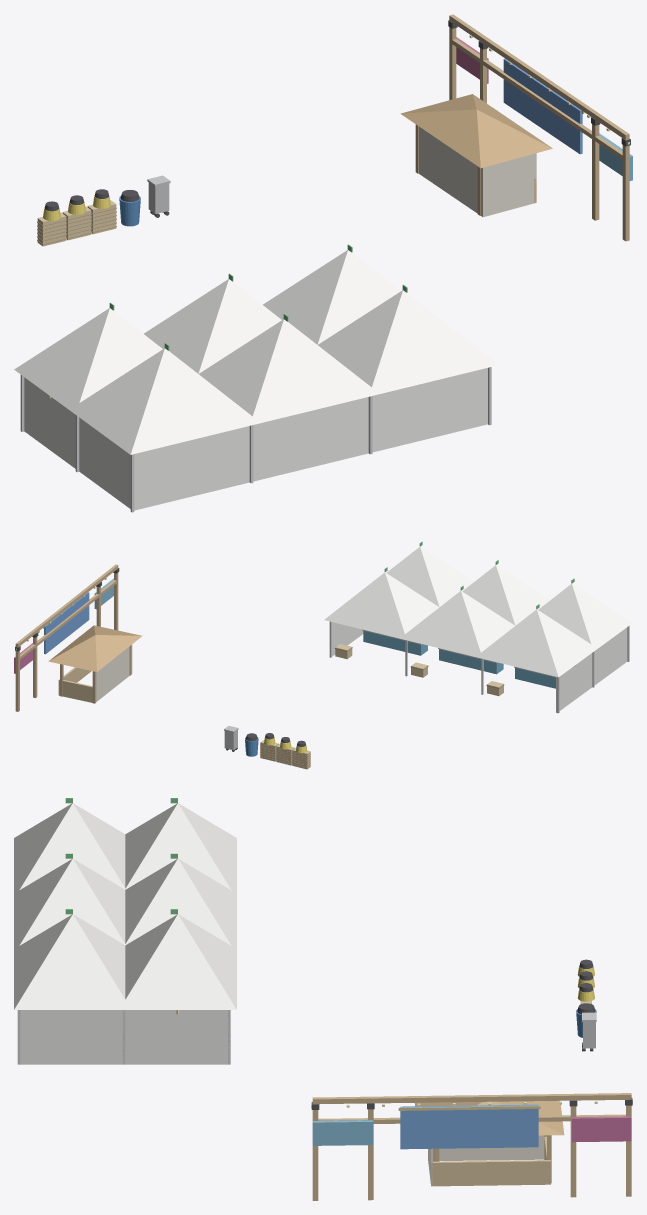
File: port_gathering.glb
3 renders of one model, top to bottom at view 1: azimuth 30°, elevation 25°; view 2: azimuth 150°, elevation 25°; view 3: azimuth 270°, elevation 25°, orthographic. The views are drawn at different scales.
Parts seen in each view (by area): view 1: Geom3D (×27); view 2: Geom3D (×25); view 3: Geom3D (×28).
Boxes of the visible parts, x1=… form: Geom3D (×27): x1=14, y1=14, x2=629, y2=510; Geom3D (×25): x1=15, y1=546, x2=632, y2=712; Geom3D (×28): x1=14, y1=803, x2=631, y2=1186.
Size of the model in its own units: 35.13 by 6.79 by 29.91.
